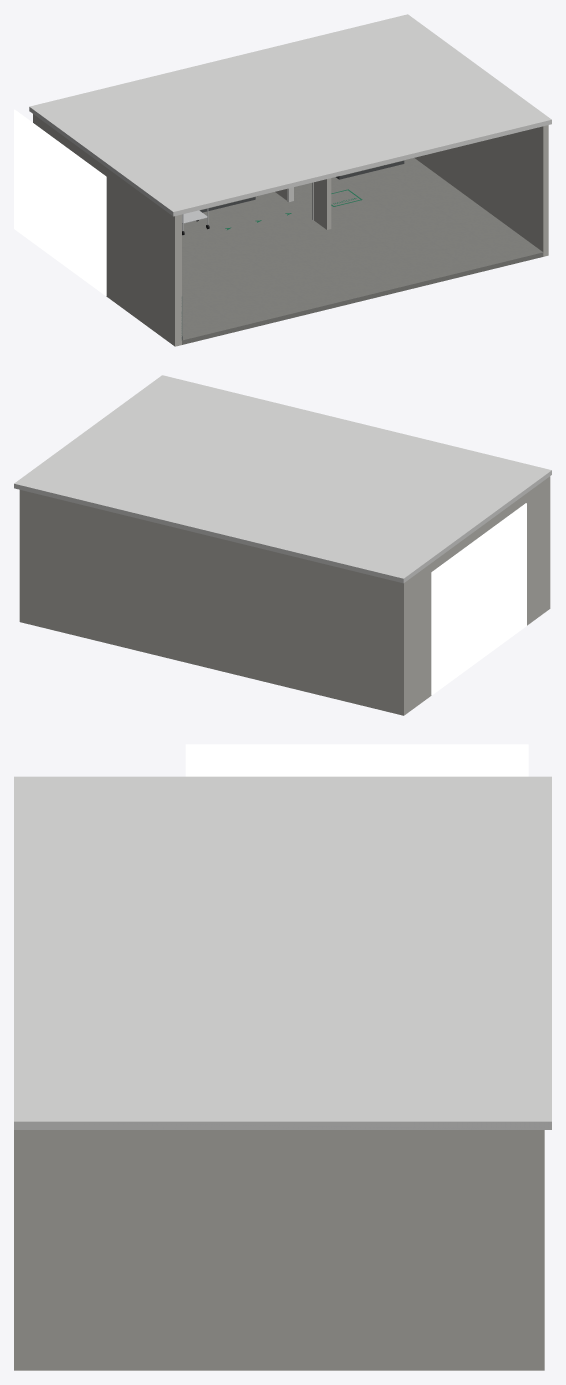
The model's file is clinic.glb.
3 views of the same model, one above another, from view 1: azimuth 30°, elevation 25°; view 2: azimuth 150°, elevation 25°; view 3: azimuth 270°, elevation 25° (orthographic). The views are drawn at different scales.
Parts seen in each view (by area): view 1: ceiling, floor, sky_face, wall.001, wall.004, wall.002, wall.003, partition.002; view 2: ceiling, wall, sky_face, wall.002, wall.003, wall.005, wall.004, wall.001; view 3: ceiling, wall.001, sky_face.
Boxes of the visible parts, <box> form: ceiling: <box>29,14,551,216</box>; floor: <box>182,158,543,344</box>; sky_face: <box>14,109,106,295</box>; wall.001: <box>414,125,548,256</box>; wall.004: <box>106,191,181,296</box>; wall.002: <box>106,247,181,346</box>; wall.003: <box>33,114,181,240</box>; partition.002: <box>314,178,331,229</box>; ceiling: <box>14,375,551,583</box>; wall: <box>25,491,396,713</box>; sky_face: <box>431,503,526,695</box>; wall.002: <box>397,558,550,715</box>; wall.003: <box>397,476,550,606</box>; wall.005: <box>397,587,431,664</box>; wall.004: <box>527,500,550,574</box>; wall.001: <box>19,490,24,623</box>; ceiling: <box>14,776,551,1129</box>; wall.001: <box>14,1130,544,1370</box>; sky_face: <box>185,744,528,776</box>.
Bounding box in the file's own units: 9.3 × 3.15 × 5.8.
32 materials, 3 textured.
